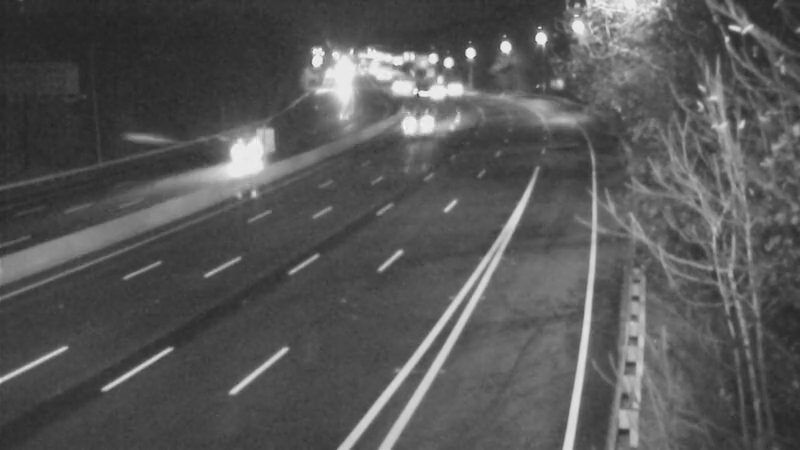vehicle: (197, 113, 277, 193), (414, 65, 464, 115), (428, 60, 478, 110), (390, 99, 440, 149)
